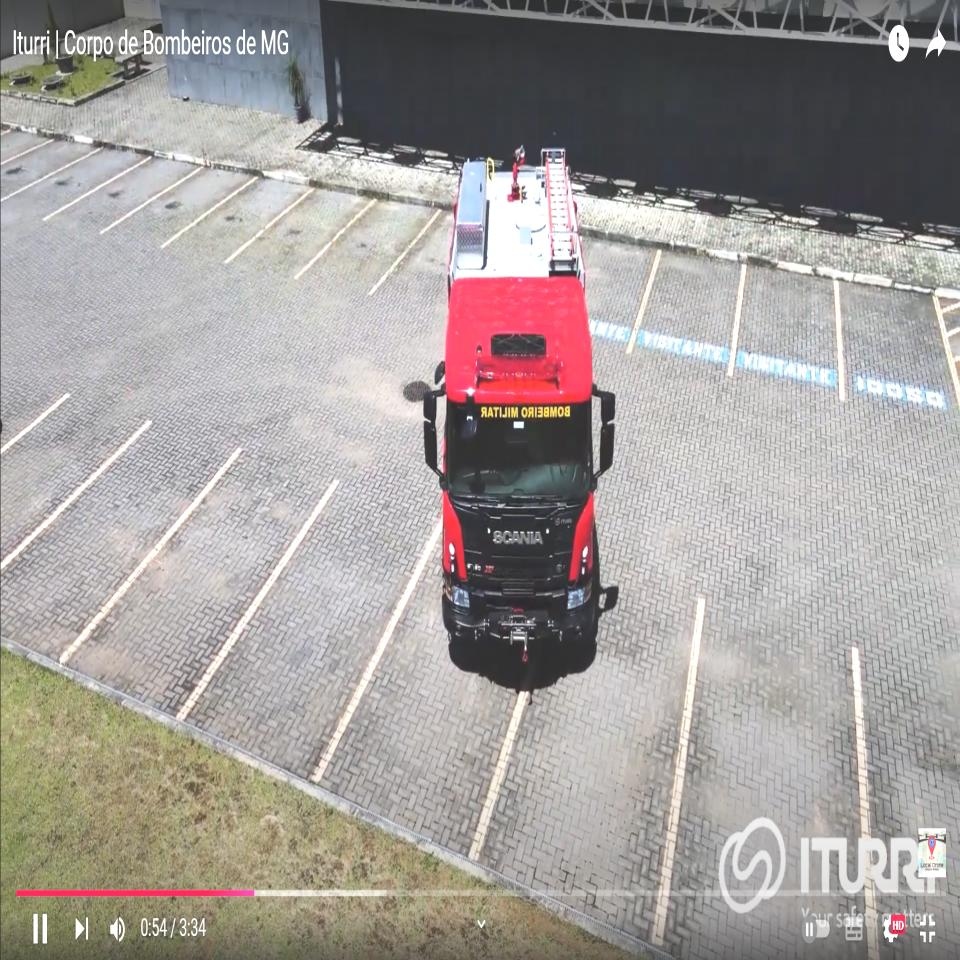bombeiro: (423, 146, 618, 670)
